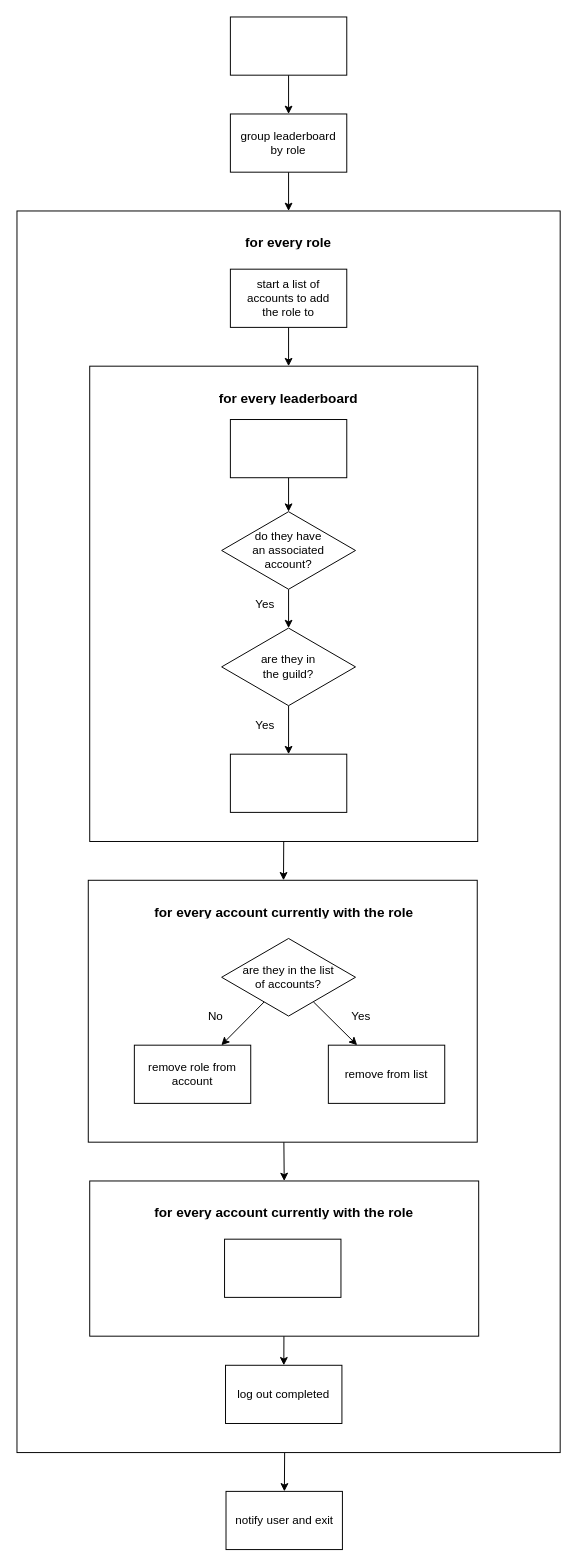
Some shapes in this 577 by 1567 pixel diagram are drawn without their labels. The centre of each missing label's shape, as x and y in pixels:
add role to account: the point at 282,1267
add to list of accounts: the point at 288,782
get all leaderboards tracked by guild: the point at 288,45
get current wr holders: the point at 288,448
